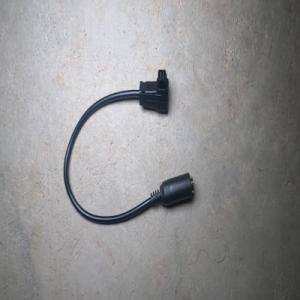Wire: (63, 69, 194, 225)
